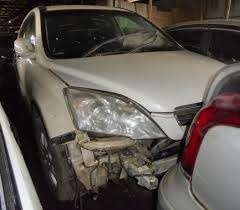Dent: (46, 134, 171, 204)
